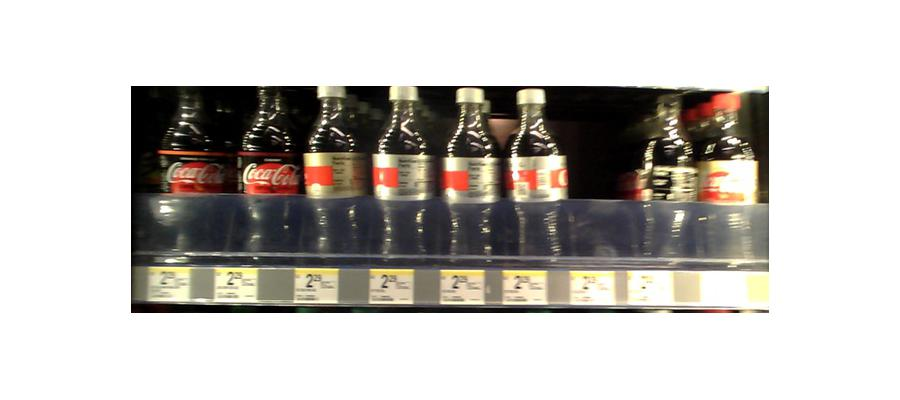bottle: (157, 102, 235, 254), (303, 84, 371, 257), (374, 82, 438, 259), (697, 87, 761, 262), (237, 84, 301, 256), (507, 83, 567, 262), (443, 82, 500, 263), (642, 95, 692, 260)
